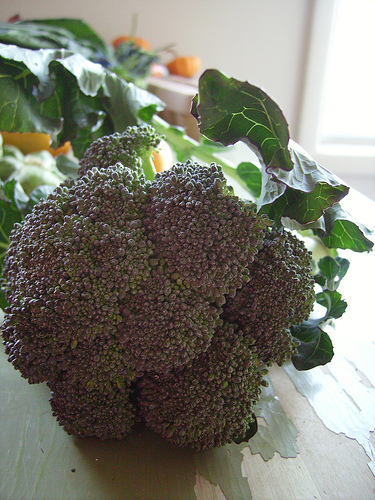broccoli: (3, 126, 318, 455)
